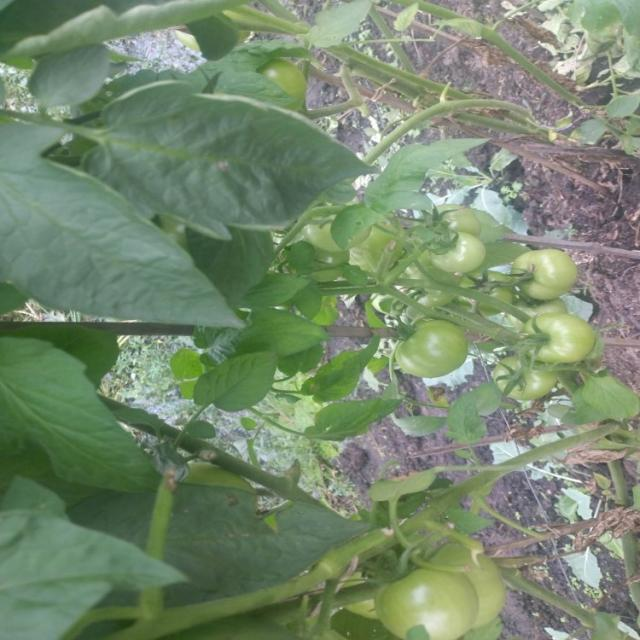tomato: (363, 570, 481, 639), (431, 531, 512, 615), (513, 298, 598, 374), (481, 345, 564, 415), (390, 316, 472, 381), (512, 236, 581, 309), (252, 51, 319, 125), (424, 201, 490, 246), (423, 234, 483, 276), (298, 207, 343, 252)
